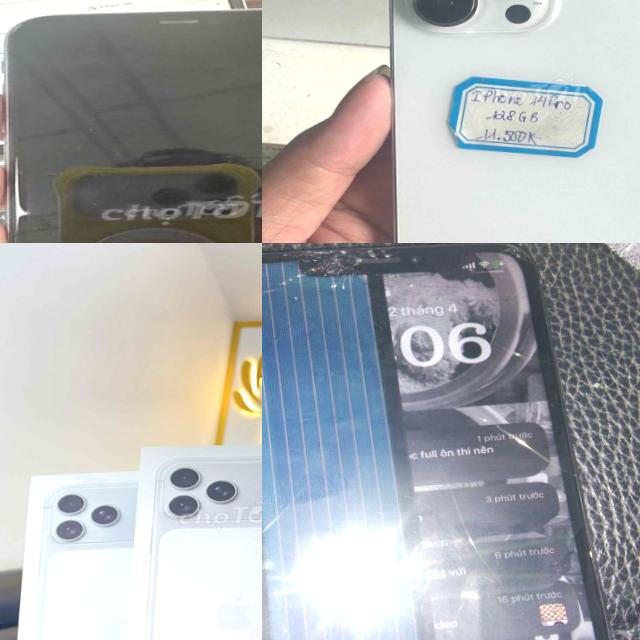physical_damage: (262, 247, 428, 303), (497, 340, 533, 360), (472, 546, 496, 568), (454, 505, 474, 531), (262, 305, 288, 324), (282, 313, 304, 332), (513, 435, 536, 450), (439, 461, 454, 481), (262, 335, 277, 354), (462, 534, 480, 549), (474, 410, 494, 422), (446, 484, 461, 500), (262, 515, 277, 530), (502, 426, 516, 434), (278, 502, 286, 516)
scratch: (24, 213, 80, 240), (72, 138, 105, 156), (0, 16, 29, 34), (502, 243, 531, 259), (144, 183, 171, 196), (81, 126, 112, 137), (86, 200, 105, 208)
screen_defect: (262, 417, 412, 588), (262, 254, 388, 418), (262, 585, 440, 640)
